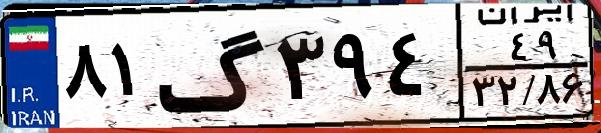1: (110, 28, 156, 98)
2: (495, 70, 520, 125)
3: (270, 28, 330, 110), (470, 70, 495, 125)
4: (385, 28, 445, 110), (508, 27, 537, 80)
6: (560, 70, 590, 125)
8: (57, 26, 110, 100), (535, 70, 560, 125)
9: (330, 28, 385, 110), (537, 27, 568, 80)
گ: (156, 12, 270, 120)
